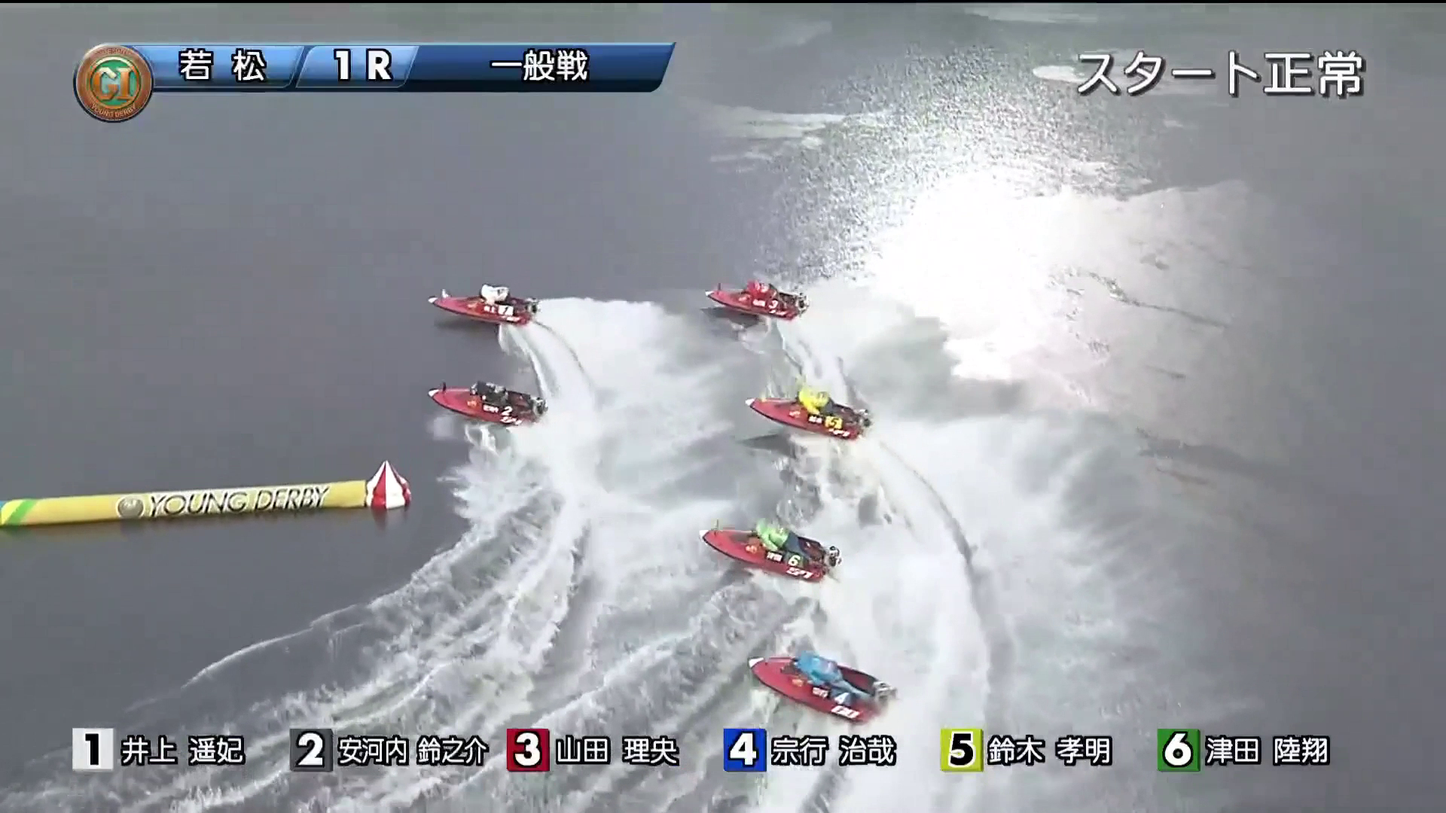１号艇: (461, 289, 532, 343)
２号艇: (427, 371, 556, 431)
３号艇: (705, 279, 803, 326)
４号艇: (716, 521, 850, 586)
５号艇: (761, 658, 885, 713)
６号艇: (750, 360, 849, 441)
